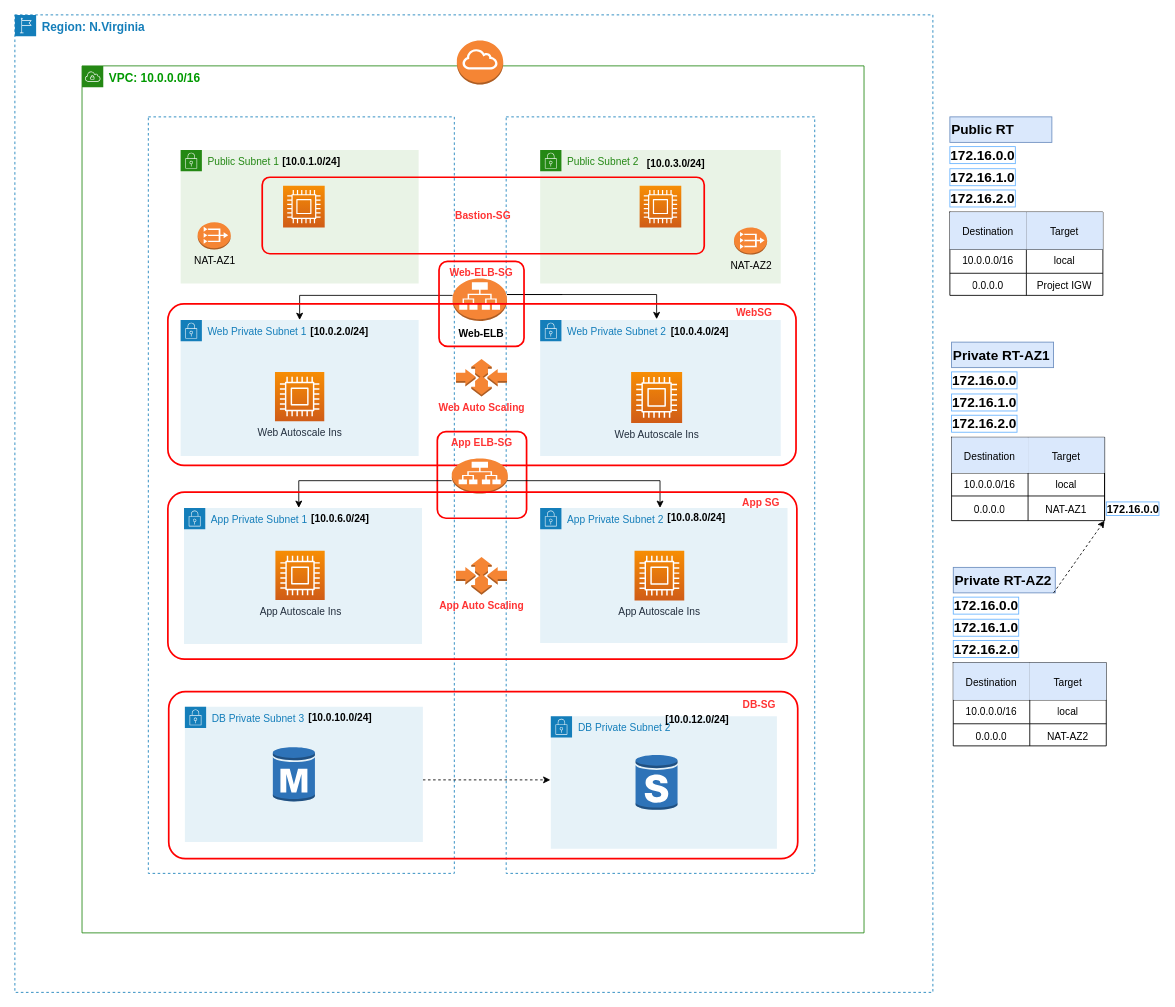
The diagram is 1175 pixels wide and 1007 high, and some of its shapes have lost their labels. Each missing label, with the centre of its shape:
"App ELB" goes at pixel 479 475.
"Availability Zone 1- us-east-1a" goes at pixel 300 494.
"Availability Zone 2- us-east-1b" goes at pixel 660 494.
"EC2 Bastion Z1" goes at pixel 303 206.
"Ec2 Bastion Z2" goes at pixel 660 206.
"Internet Gateway" goes at pixel 479 62.
"Multi AZ" goes at pixel 656 782.
